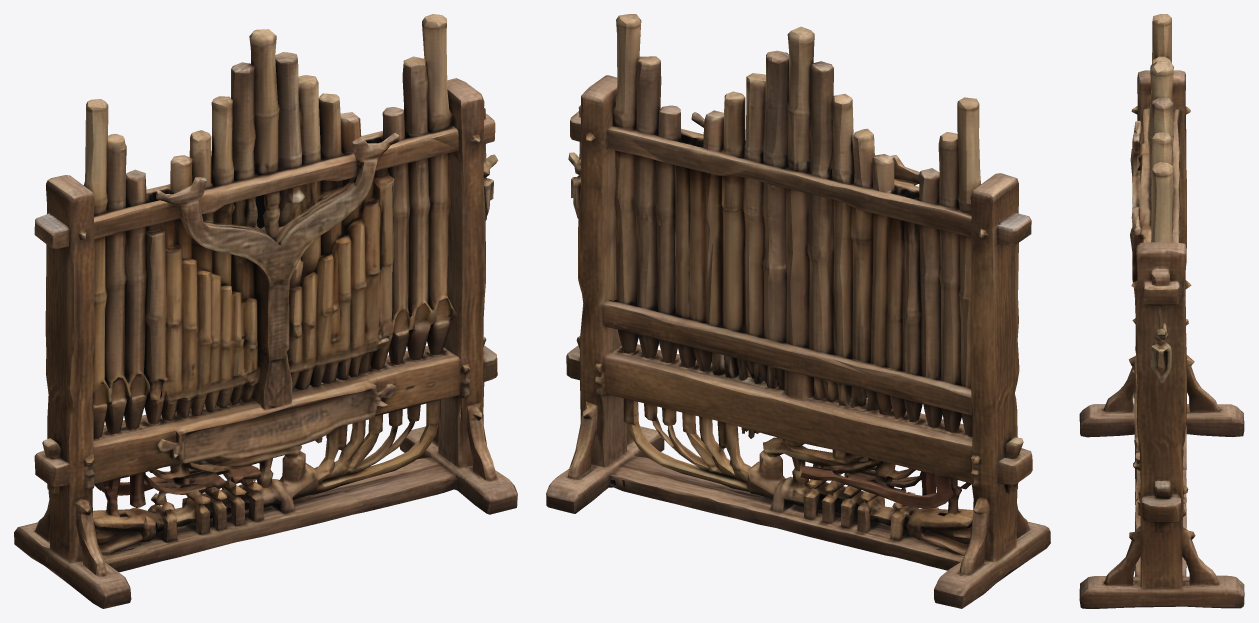
3 renders of one model, left to right at view 1: azimuth 30°, elevation 25°; view 2: azimuth 150°, elevation 25°; view 3: azimuth 270°, elevation 25°, orthographic. The views are drawn at different scales.
Visible parts, largest first — view 1: world; view 2: world; view 3: world.
Boxes of the visible parts, x1,y1,x2,y2 form: world: (14,14,517,608); world: (546,14,1050,608); world: (1079,14,1244,608).
Size of the model in its own units: 0.9141 by 0.95 by 0.3148.
Materials: 1 (1 with a texture image).
